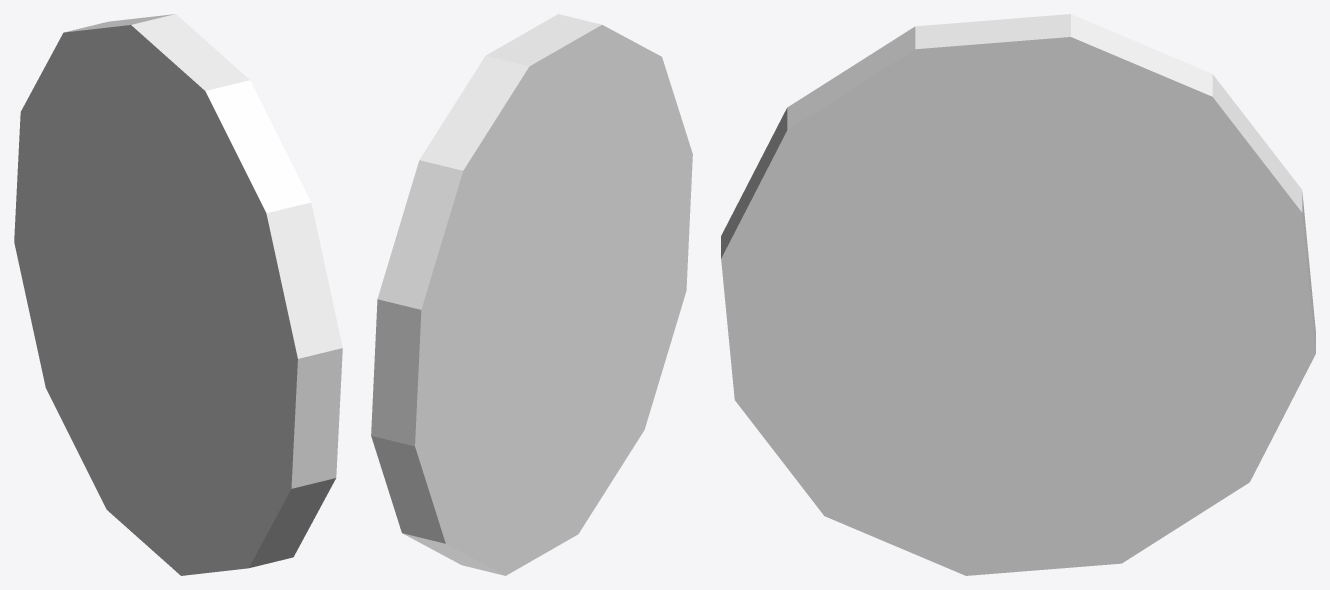
File: coin.obj
The picture shows the model from 3 angles, left to right: view 1: azimuth 30°, elevation 25°; view 2: azimuth 150°, elevation 25°; view 3: azimuth 270°, elevation 25°; orthographic projection. The views are drawn at different scales.
Visible parts, largest first — view 1: coin_Circle; view 2: coin_Circle; view 3: coin_Circle.
Part boxes in pixels (x1,y1,x2,y2): coin_Circle: [14, 14, 342, 575]; coin_Circle: [371, 14, 692, 575]; coin_Circle: [721, 14, 1315, 575].
Size of the model in its own units: 0.1798 by 1.97 by 1.97.
